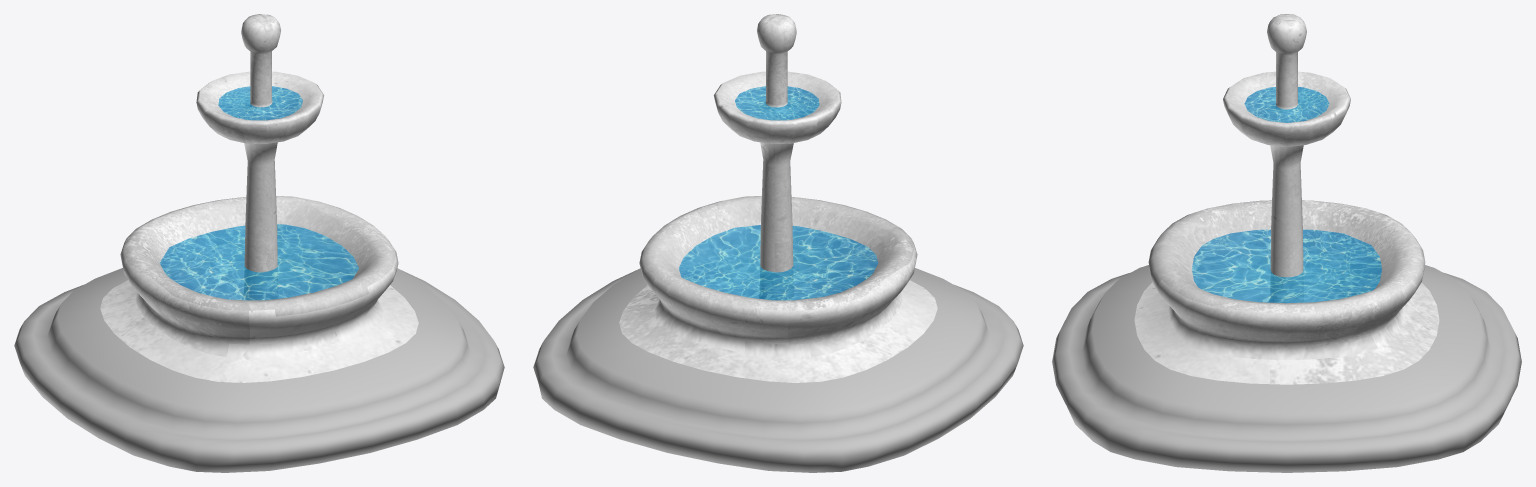
The model's file is Fontain.fbx.
The picture shows the model from 3 angles, left to right: view 1: azimuth 30°, elevation 25°; view 2: azimuth 150°, elevation 25°; view 3: azimuth 270°, elevation 25°; orthographic projection.
Visible parts, largest first — view 1: pDisc4; view 2: pDisc4; view 3: pDisc4.
Part boxes in pixels (x1,y1,x2,y2): pDisc4: (14,14,504,472); pDisc4: (533,14,1023,472); pDisc4: (1052,14,1521,472).
Size of the model in its own units: 13.83 by 11.68 by 13.83.
3 materials, 2 textured.
